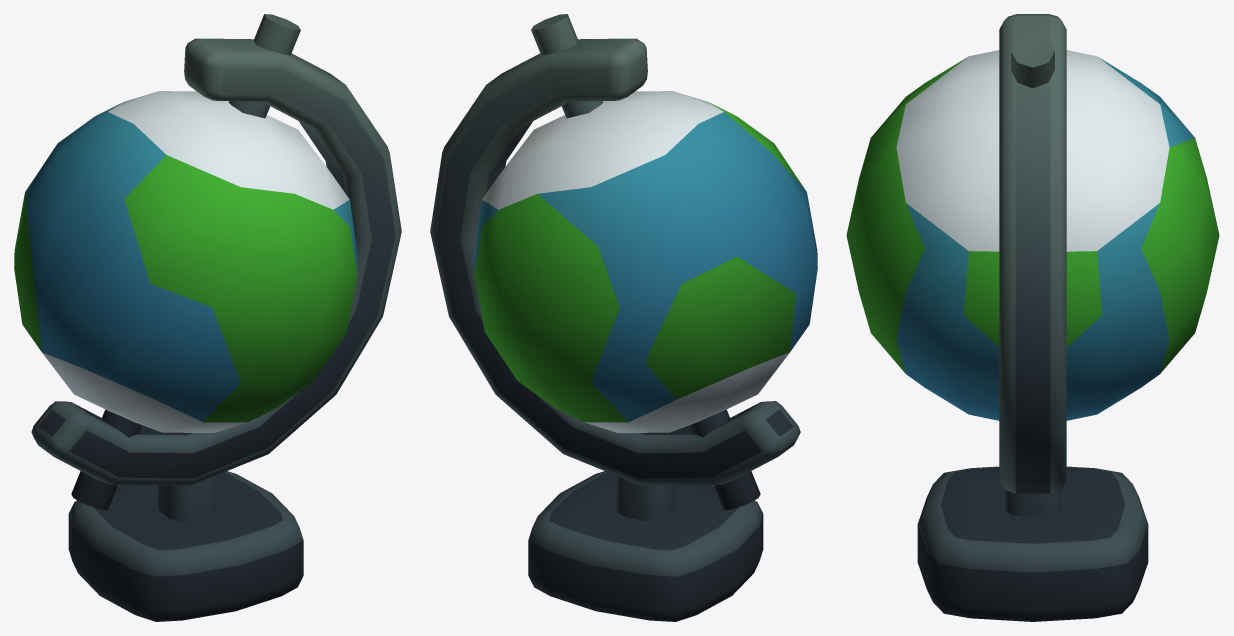
The model's file is globe_LOD_setup.fbx.
3 views of the same model, side by side, from view 1: azimuth 30°, elevation 25°; view 2: azimuth 150°, elevation 25°; view 3: azimuth 270°, elevation 25° (orthographic). The views are drawn at different scales.
Visible parts, largest first — view 1: globe_LOD0; view 2: globe_LOD0; view 3: globe_LOD0.
Part boxes in pixels (<box>): globe_LOD0: <box>14,14,401,621</box>; globe_LOD0: <box>430,14,817,621</box>; globe_LOD0: <box>846,14,1219,621</box>.
Size of what is drawn, in the model's own units: 52.78 by 76.74 by 43.92.
